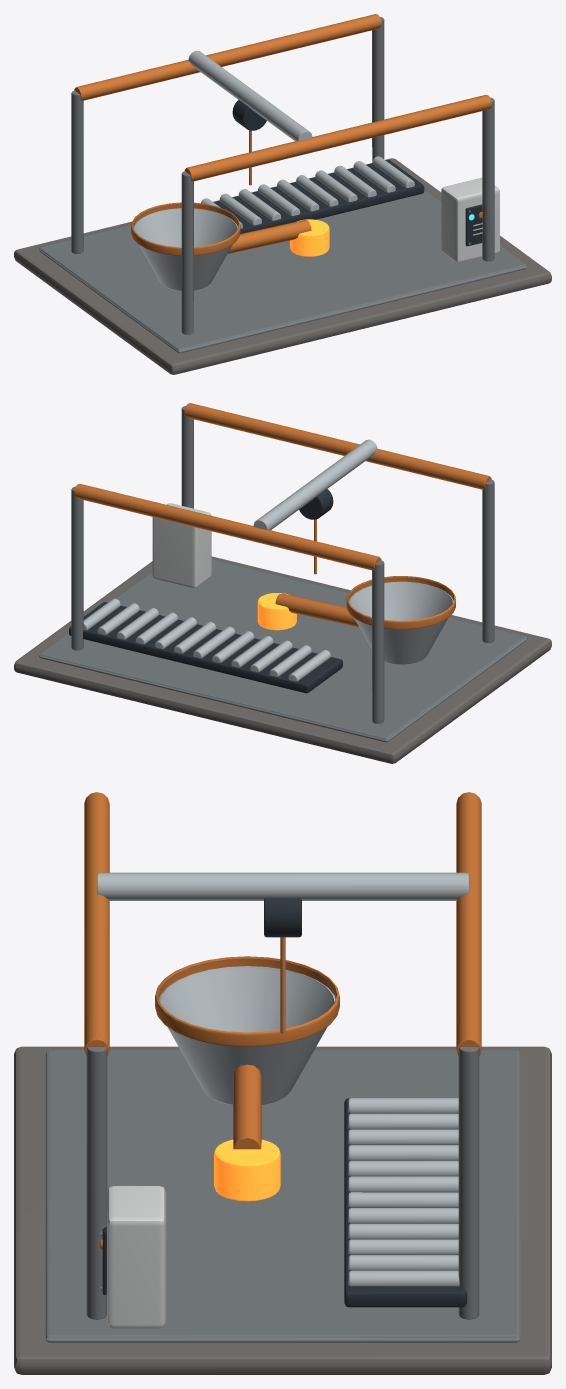
File: casting-yard.glb
3 renders of one model, top to bottom at view 1: azimuth 30°, elevation 25°; view 2: azimuth 150°, elevation 25°; view 3: azimuth 270°, elevation 25°, orthographic. The views are drawn at different scales.
Visible parts, largest first — view 1: RenderBatch_CastingYard_CAST_Frame, Casting_Foundation, RenderBatch_CastingYard_CAST_Body, RenderBatch_CastingYard_CAST_SafetyOrange, RenderBatch_CastingYard_CAST_DarkService, Casting_ControlCabinet, Casting_PourArm, Casting_PourHead, Casting_ControlFace; view 2: RenderBatch_CastingYard_CAST_Frame, Casting_Foundation, RenderBatch_CastingYard_CAST_Body, RenderBatch_CastingYard_CAST_SafetyOrange, RenderBatch_CastingYard_CAST_DarkService, Casting_ControlCabinet, Casting_PourArm, Casting_PourHead; view 3: RenderBatch_CastingYard_CAST_Frame, RenderBatch_CastingYard_CAST_Body, Casting_Foundation, RenderBatch_CastingYard_CAST_SafetyOrange, Casting_ControlCabinet, RenderBatch_CastingYard_CAST_DarkService, Casting_PourHead, Casting_PourArm.
Part boxes in pixels (x1,y1,x2,y2): RenderBatch_CastingYard_CAST_Frame: [39, 17, 526, 353]; Casting_Foundation: [14, 158, 551, 374]; RenderBatch_CastingYard_CAST_Body: [133, 50, 414, 290]; RenderBatch_CastingYard_CAST_SafetyOrange: [74, 14, 491, 255]; RenderBatch_CastingYard_CAST_DarkService: [213, 100, 424, 233]; Casting_ControlCabinet: [441, 177, 499, 262]; Casting_PourArm: [228, 220, 311, 253]; Casting_PourHead: [290, 219, 329, 256]; Casting_ControlFace: [465, 204, 482, 246]; RenderBatch_CastingYard_CAST_Frame: [39, 406, 526, 742]; Casting_Foundation: [14, 556, 551, 763]; RenderBatch_CastingYard_CAST_Body: [83, 439, 453, 681]; RenderBatch_CastingYard_CAST_SafetyOrange: [74, 403, 491, 629]; RenderBatch_CastingYard_CAST_DarkService: [69, 489, 342, 693]; Casting_ControlCabinet: [152, 503, 211, 587]; Casting_PourArm: [275, 593, 359, 627]; Casting_PourHead: [257, 593, 296, 630]; RenderBatch_CastingYard_CAST_Frame: [45, 1047, 520, 1342]; RenderBatch_CastingYard_CAST_Body: [97, 872, 468, 1286]; Casting_Foundation: [14, 1046, 551, 1374]; RenderBatch_CastingYard_CAST_SafetyOrange: [84, 792, 481, 1249]; Casting_ControlCabinet: [107, 1186, 166, 1328]; RenderBatch_CastingYard_CAST_DarkService: [264, 898, 466, 1307]; Casting_PourHead: [214, 1139, 280, 1201]; Casting_PourArm: [233, 1064, 261, 1149].
Bounding box in the file's own units: 9.4 × 4.46 × 6.8.
